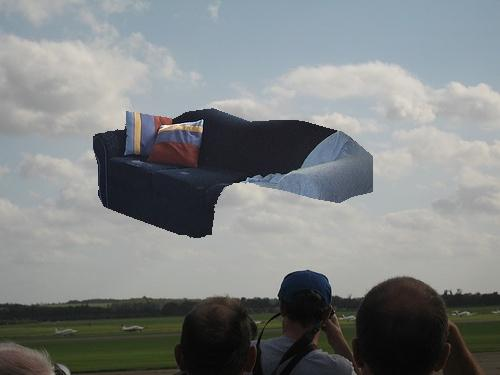tampered: (94, 109, 373, 238)
